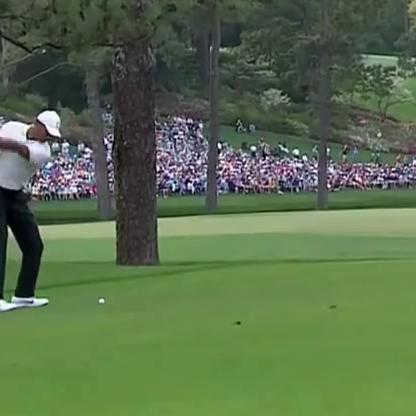golfball: (95, 295, 105, 305)
